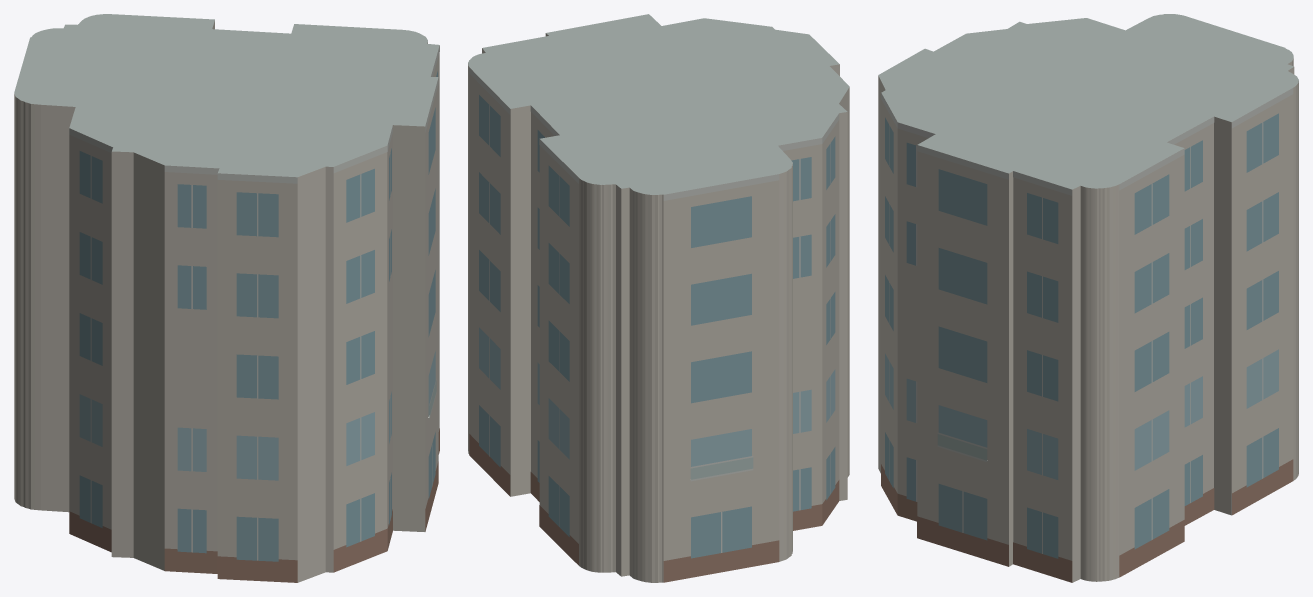
File: survey-upis-32663713.glb
The picture shows the model from 3 angles, left to right: view 1: azimuth 30°, elevation 25°; view 2: azimuth 150°, elevation 25°; view 3: azimuth 270°, elevation 25°; orthographic projection. The views are drawn at different scales.
Parts seen in each view (by area): view 1: survey-upis-32663713.tmp; view 2: survey-upis-32663713.tmp; view 3: survey-upis-32663713.tmp.
Part boxes in pixels (x1,y1,x2,y2): survey-upis-32663713.tmp: [14, 14, 439, 582]; survey-upis-32663713.tmp: [468, 14, 849, 582]; survey-upis-32663713.tmp: [878, 14, 1298, 582].
Size of the model in its own units: 14.61 by 15.25 by 14.79.
